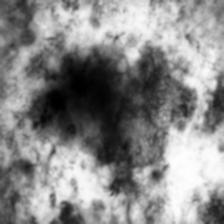Potentially Malignant Skin Tumors: (62, 53, 192, 194)
